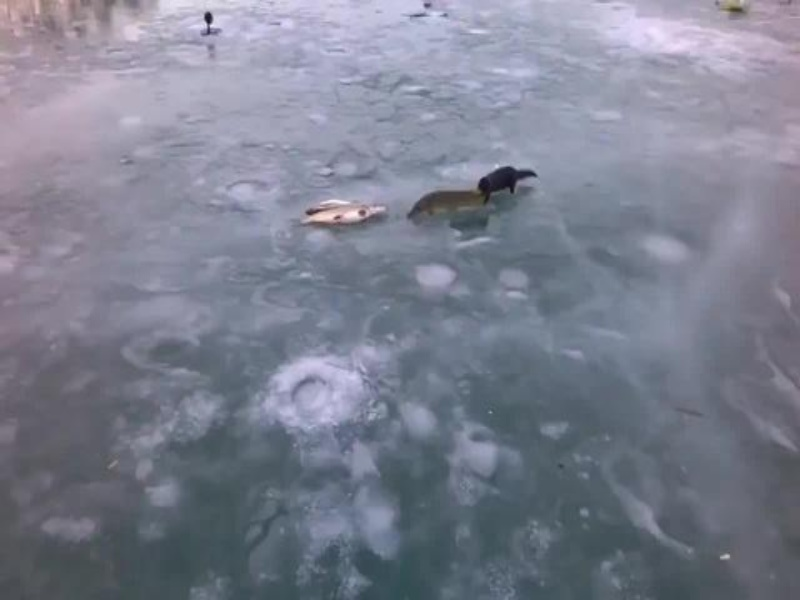minkish: (476, 168, 537, 202)
